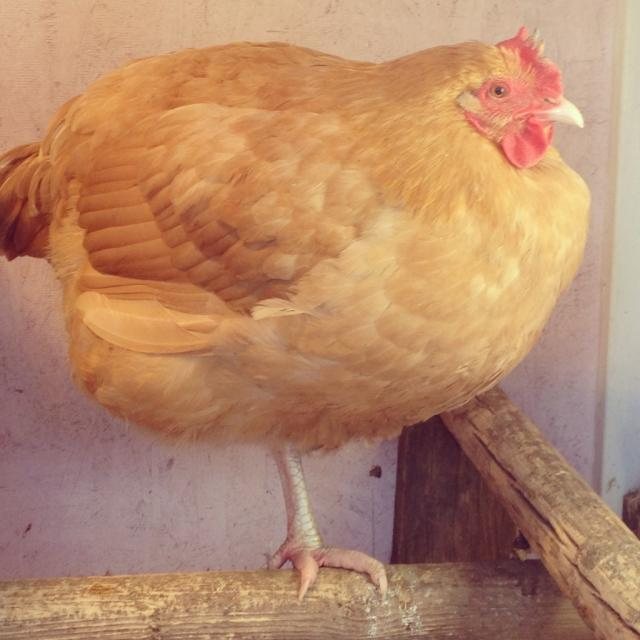Chicken: (22, 23, 610, 594)
